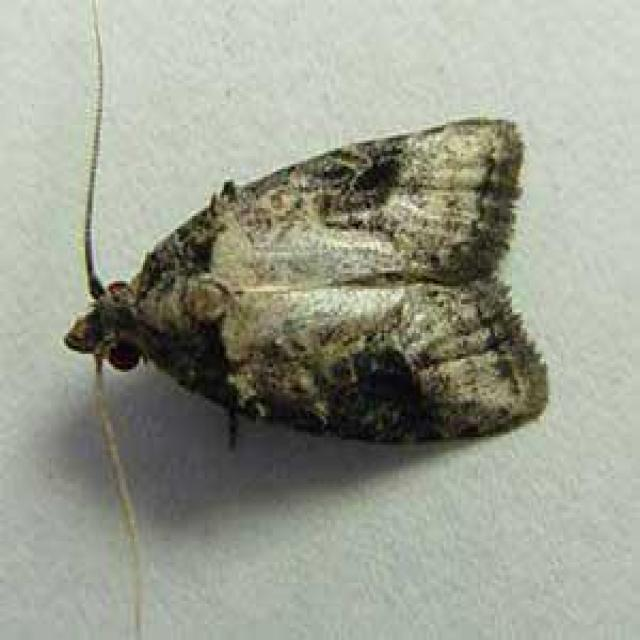armyworm: (44, 110, 567, 445)
